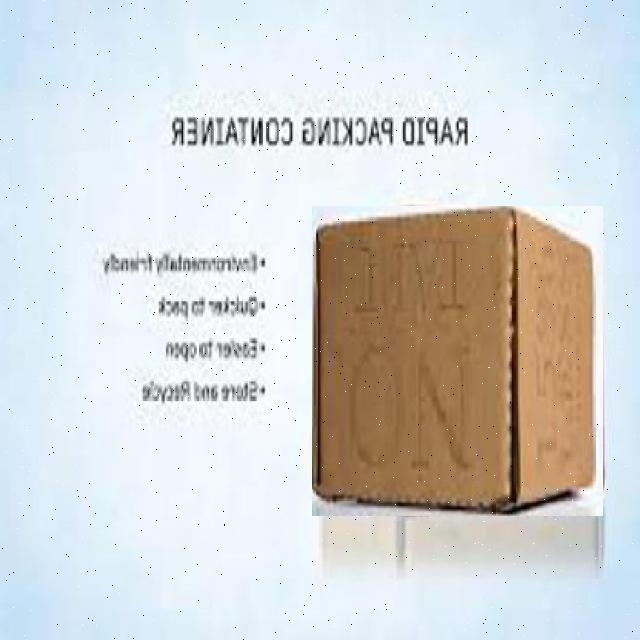normal: (312, 206, 603, 516)
